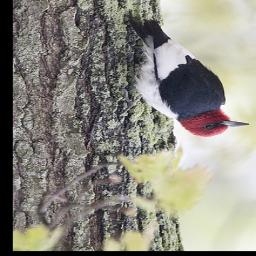Woodpecker: (131, 18, 250, 137)
